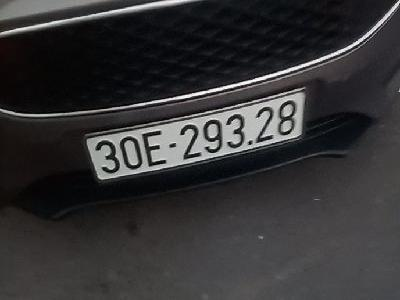number: (86, 88, 306, 182)
